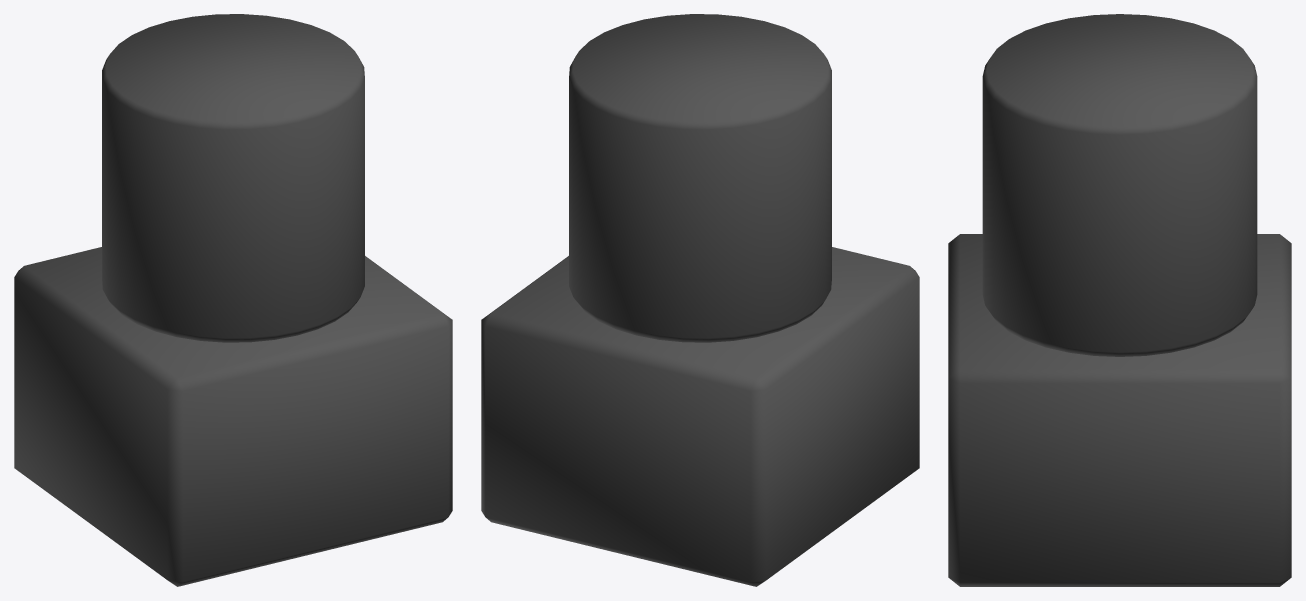
File: laser.dae
3 views of the same model, side by side, from view 1: azimuth 30°, elevation 25°; view 2: azimuth 150°, elevation 25°; view 3: azimuth 270°, elevation 25° (orthographic). The views are drawn at different scales.
Parts seen in each view (by area): view 1: SensorLower, SensorUpper; view 2: SensorLower, SensorUpper; view 3: SensorLower, SensorUpper.
Part boxes in pixels (x1,y1,x2,y2): SensorLower: (14, 247, 452, 586); SensorUpper: (102, 14, 364, 342); SensorLower: (481, 247, 919, 586); SensorUpper: (569, 14, 831, 342); SensorLower: (948, 234, 1291, 586); SensorUpper: (982, 14, 1257, 356).
Bounding box in the file's own units: 0.05 × 0.05 × 0.0721.
Materials: 2 (2 with a texture image).
